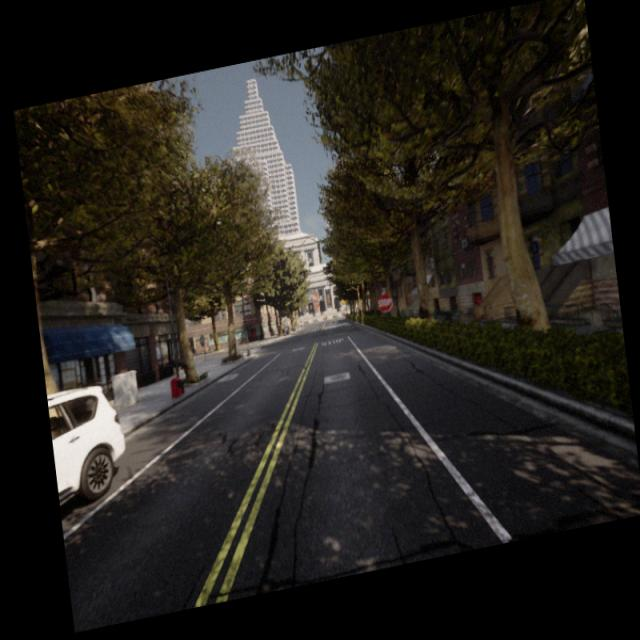stop sign: (374, 288, 394, 315)
